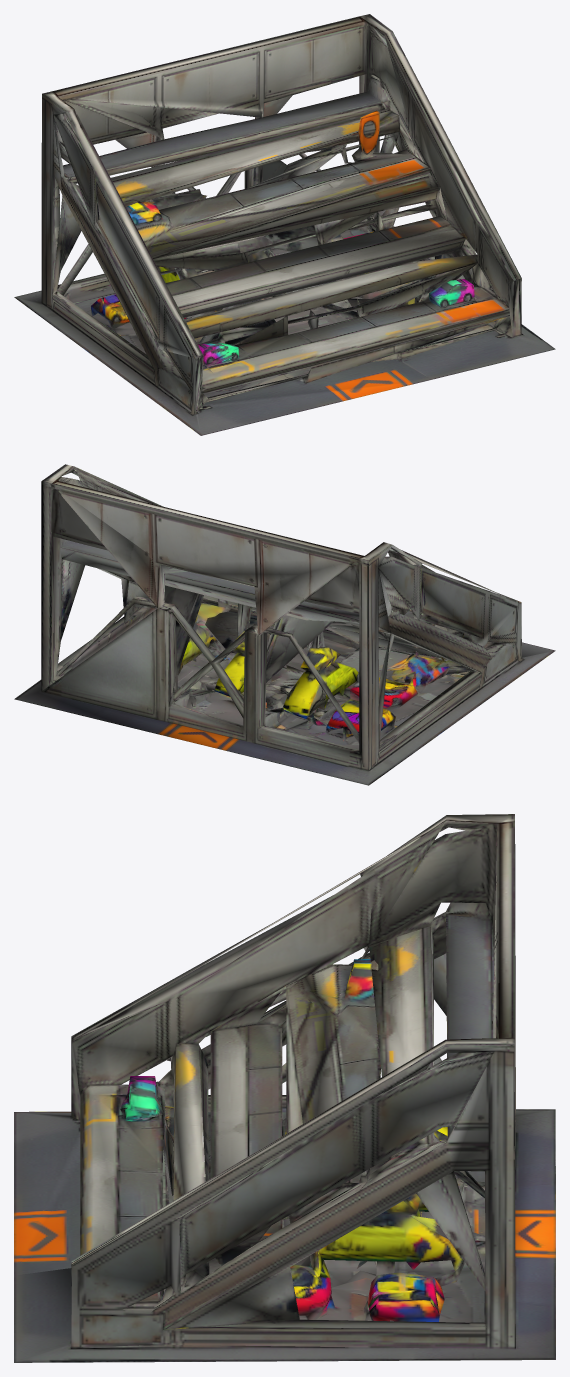
The model's file is bleachers.glb.
3 views of the same model, one above another, from view 1: azimuth 30°, elevation 25°; view 2: azimuth 150°, elevation 25°; view 3: azimuth 270°, elevation 25° (orthographic). The views are drawn at different scales.
Visible parts, largest first — view 1: Mesh_0; view 2: Mesh_0; view 3: Mesh_0.
Part boxes in pixels (x1,y1,x2,y2): Mesh_0: (14, 14, 555, 435); Mesh_0: (14, 464, 555, 785); Mesh_0: (14, 814, 555, 1362).
Size of the model in its own units: 1.9 by 1.09 by 1.73.
Materials: 1 (1 with a texture image).
